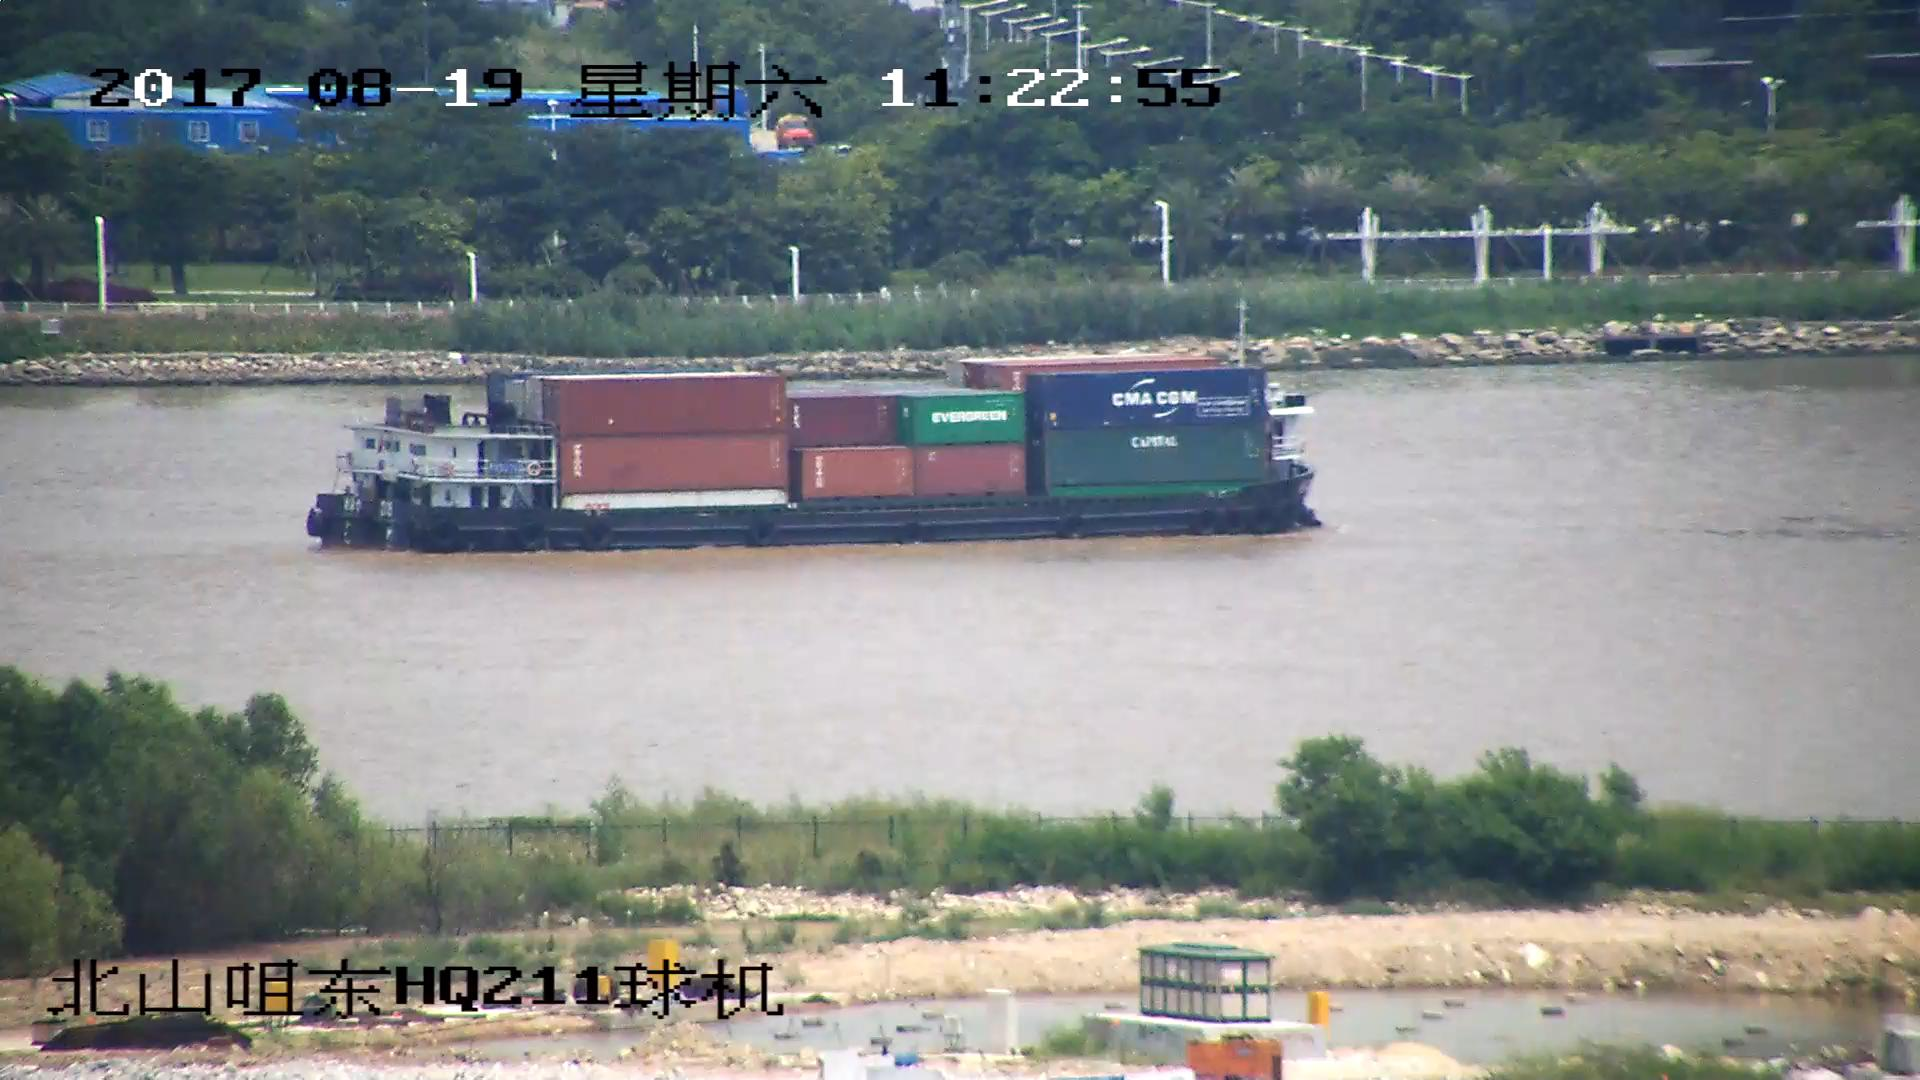container ship: (305, 312, 1325, 551)
